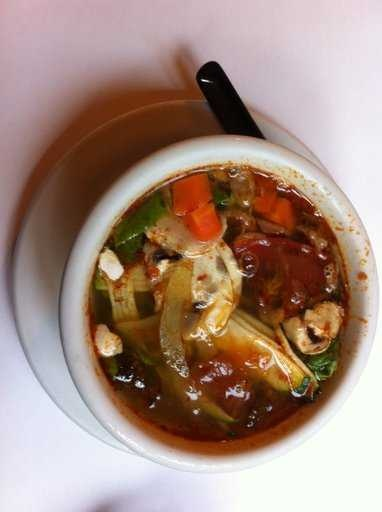soup: (60, 163, 353, 460)
